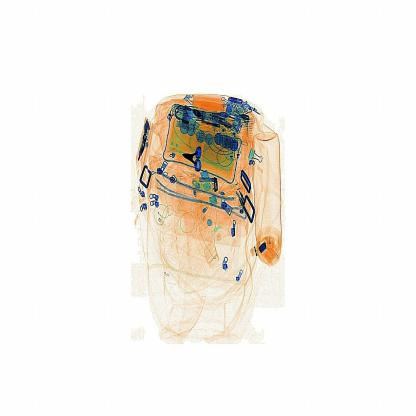gun: (177, 143, 212, 184)
